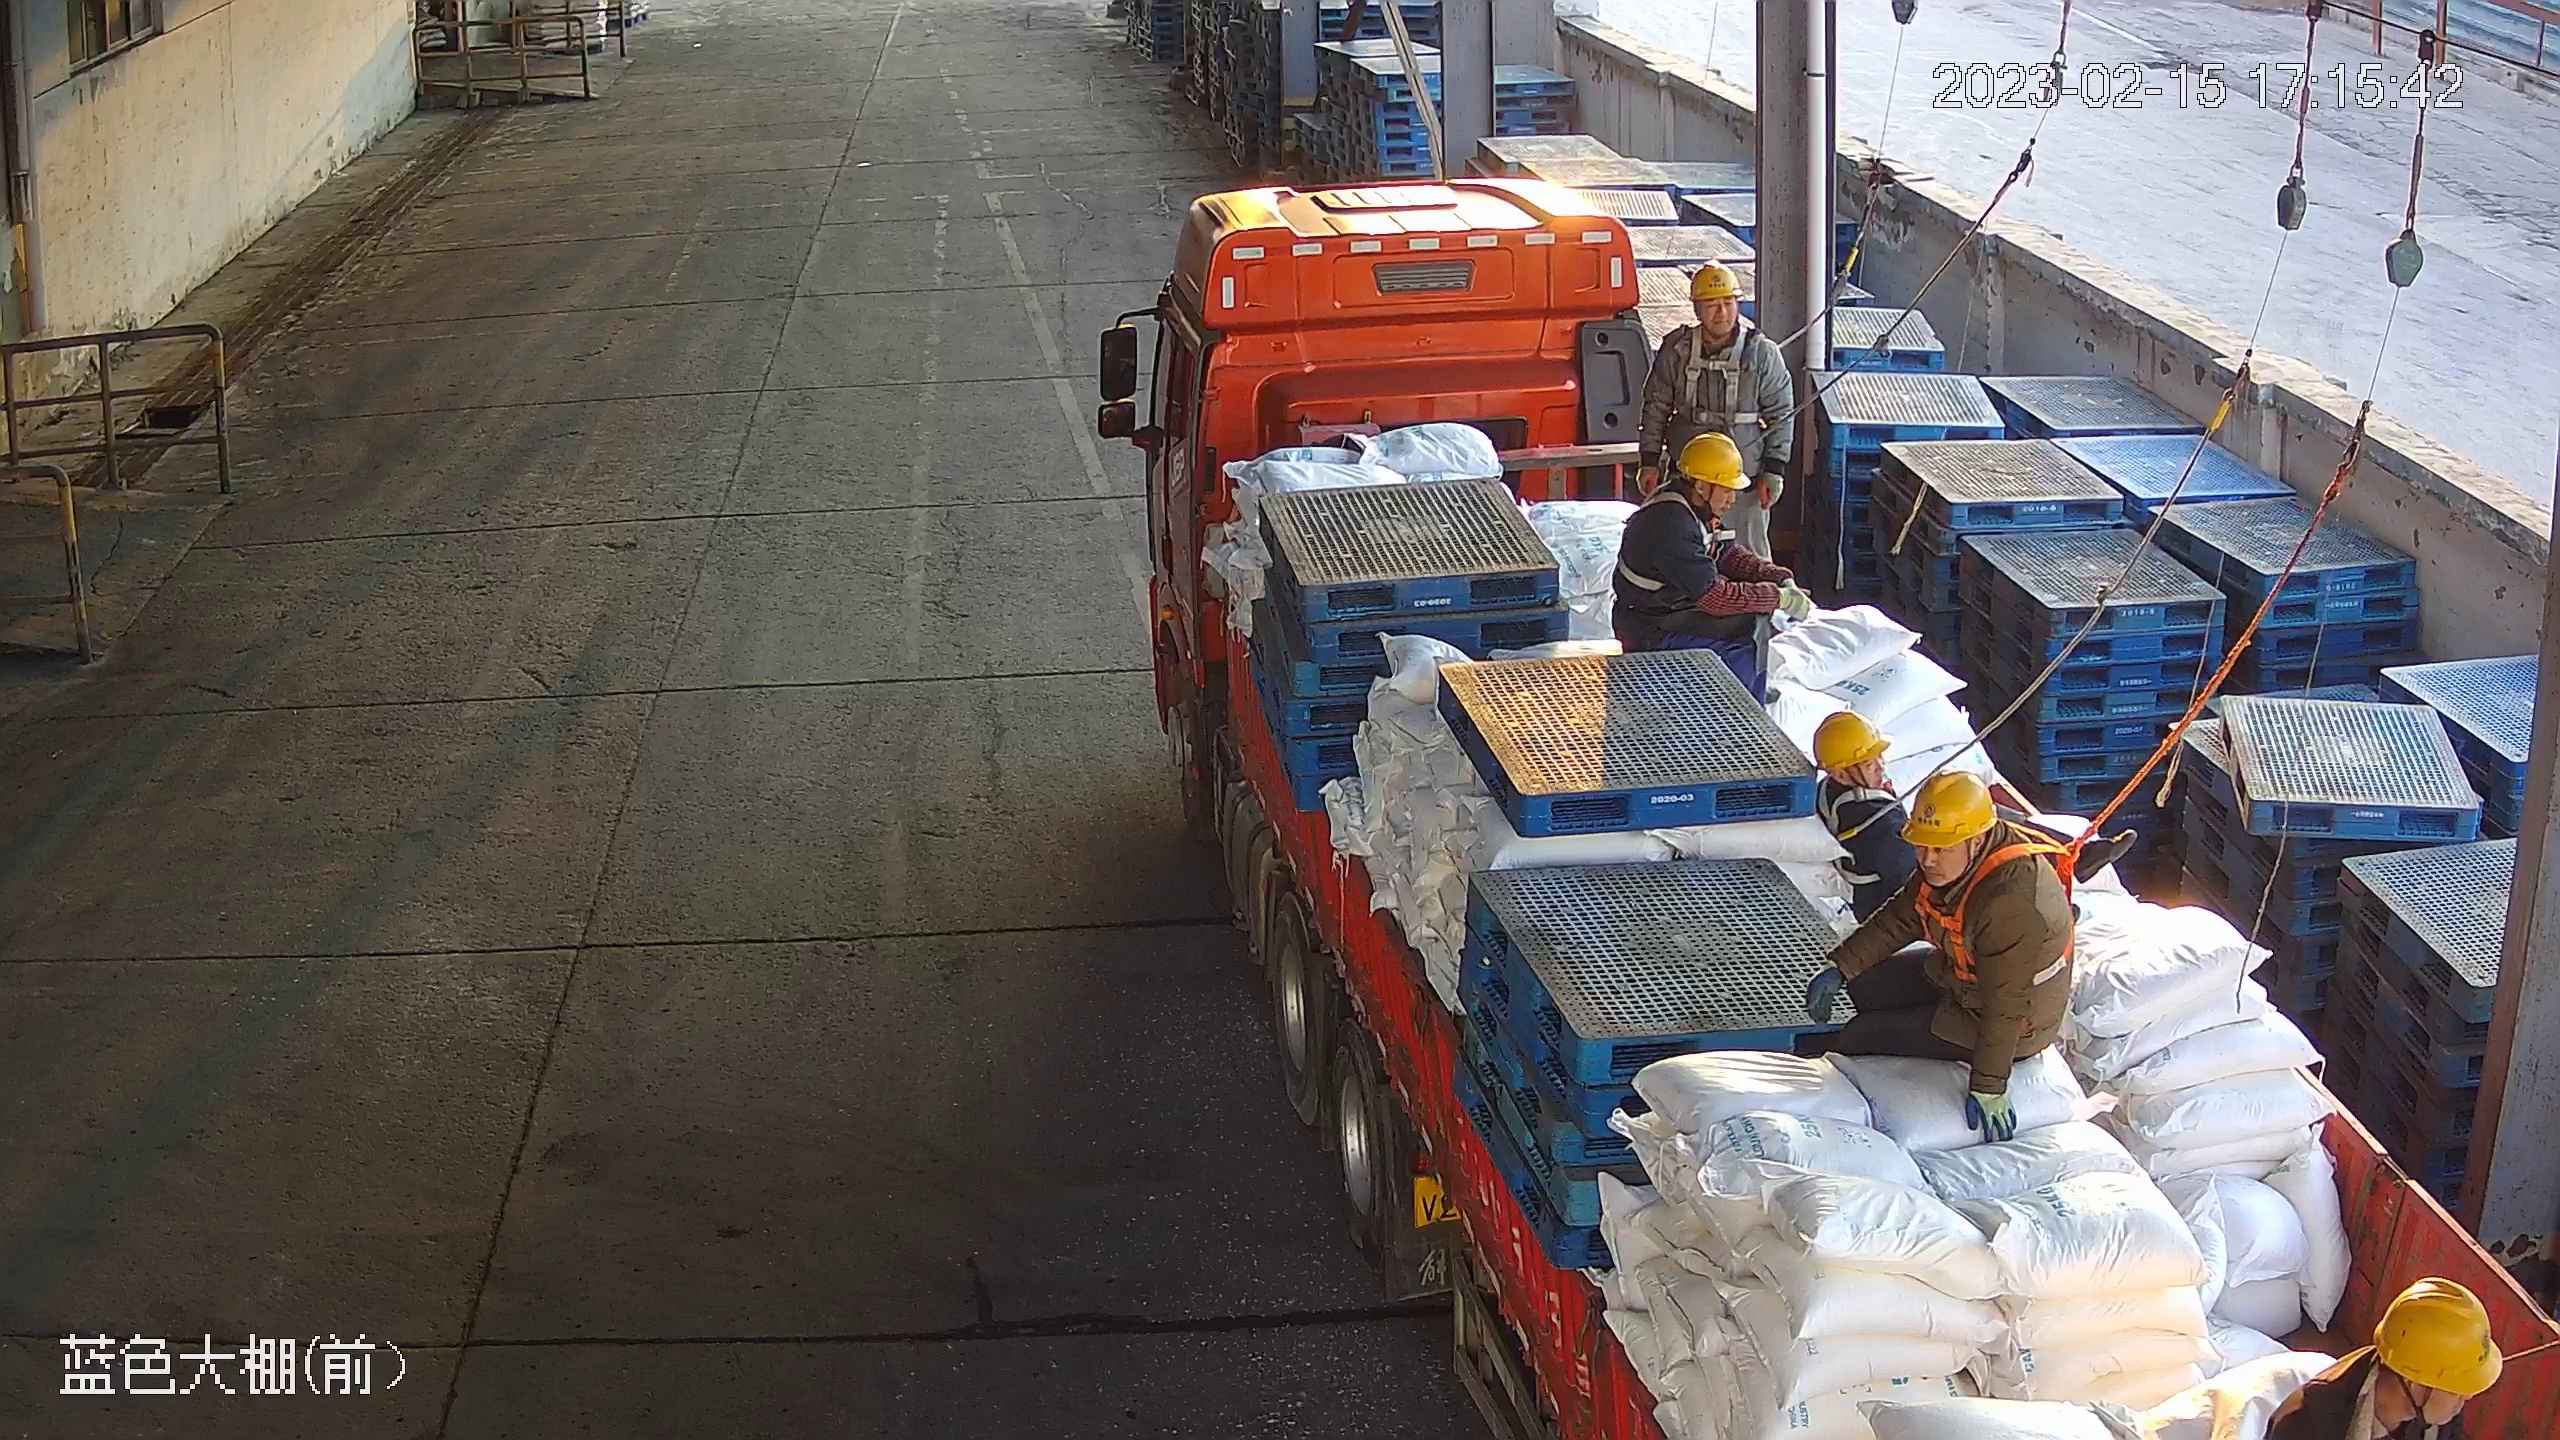belt: (1914, 819, 2086, 985), (1617, 480, 1737, 592), (1819, 776, 1902, 886), (1677, 325, 1763, 426)
head: (1900, 769, 2064, 932), (1658, 263, 1778, 388), (1636, 431, 1748, 548), (1811, 710, 1905, 841)
helmet: (2373, 1275, 2502, 1397), (1901, 770, 1998, 848), (1813, 710, 1891, 769), (1676, 432, 1751, 489), (1689, 261, 1744, 301)
people: (1807, 768, 2077, 1141), (1813, 711, 2137, 929), (1612, 432, 1810, 709), (1638, 262, 1794, 561)
truck: (1097, 178, 2560, 1440)
